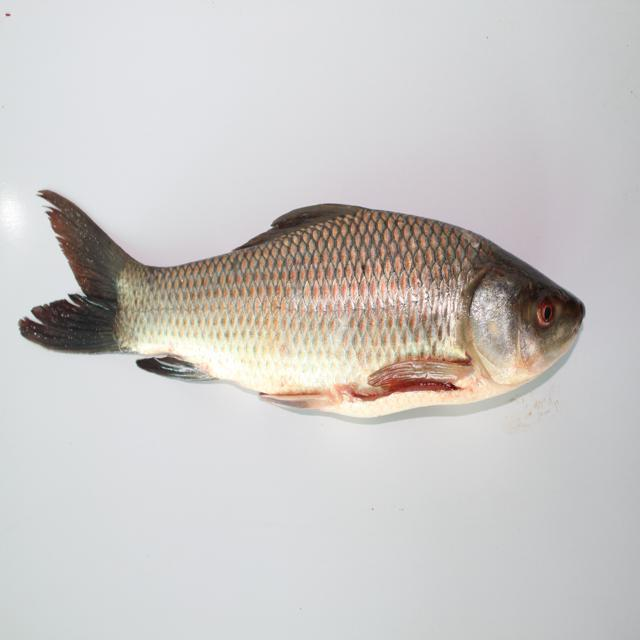Rohu: (27, 163, 581, 443)
